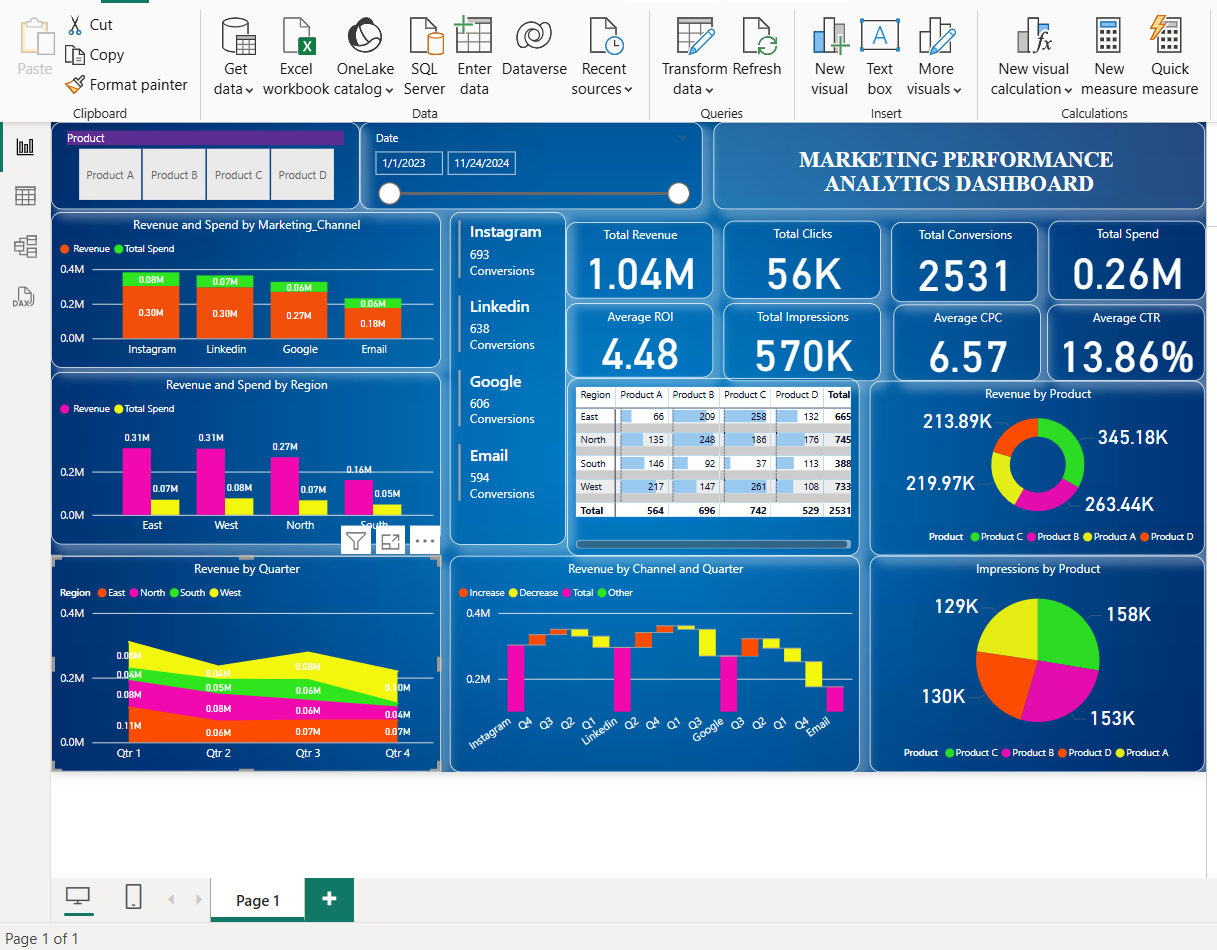

The dashboard page shown, as its layout file describes it:
{"tool":"powerbi","page":{"name":"Page 1","canvas":[1280,720],"ordinal":0},"visuals":[{"type":"card","title":"Total Clicks","fields":{"Values":["Sum(Sheet1.Clicks)"]},"box":[745.1,109.8,174.3,86.4],"z":0},{"type":"card","title":"Total Conversions","fields":{"Values":["Sum(Sheet1.Conversions)"]},"box":[931.7,111.1,163.3,89.2],"z":1000},{"type":"card","title":"Total Impressions","fields":{"Values":["Sum(Sheet1.Impressions)"]},"box":[745.1,200.3,174.3,86.4],"z":2000},{"type":"card","title":"Total Revenue","fields":{"Values":["Sum(Sheet1.Revenue)"]},"box":[570.8,111.1,163.3,85.1],"z":3000},{"type":"card","title":"Total Spend","fields":{"Values":["Sum(Sheet1.Spend)"]},"box":[1106,109.8,174.3,87.8],"z":4000},{"type":"card","title":"Average CPC","fields":{"Values":["Avg(Sheet1.CPC)"]},"box":[934.5,201.7,163.3,85.1],"z":5000},{"type":"card","title":"Average ROI","fields":{"Values":["Avg(Sheet1.ROI)"]},"box":[570.8,200.3,163.3,82.3],"z":6000},{"type":"card","title":"Average CTR","fields":{"Values":["Avg(Sheet1.CTR)"]},"box":[1104.6,201.7,174.3,85.1],"z":7000},{"type":"textbox","box":[734.4,0,544.5,97],"z":8000},{"type":"waterfallChart","title":" Revenue by Channel and Quarter","fields":{"Category":["Sheet1.Marketing_Channel"],"Y":["Sum(Sheet1.Revenue)"],"Breakdown":["Sheet1.Quarter"]},"box":[442,480.8,454.5,239.7],"z":9000},{"type":"donutChart","title":" Revenue by Product","fields":{"Category":["Sheet1.Product"],"Y":["Sum(Sheet1.Revenue)"]},"box":[907.6,286.8,371.3,194],"z":10000},{"type":"columnChart","title":" Revenue and Spend by Marketing_Channel","fields":{"Category":["Sheet1.Marketing_Channel"],"Y":["Sum(Sheet1.Revenue)","Sum(Sheet1.Spend)"]},"box":[0,100.2,432.2,172.9],"z":11000},{"type":"clusteredColumnChart","title":" Revenue and Spend by Region","fields":{"Y":["Sum(Sheet1.Revenue)","Sum(Sheet1.Spend)"],"Category":["Sheet1.Region"]},"box":[0,277.1,432.3,191.2],"z":12000},{"type":"stackedAreaChart","title":" Revenue by Quarter","fields":{"Category":["Sheet1.Date.Variation.Date Hierarchy.Quarter"],"Y":["Sum(Sheet1.Revenue)"],"Series":["Sheet1.Region"]},"box":[0,480.8,432.3,239.7],"z":13000},{"type":"multiRowCard","fields":{"Values":["Sum(Sheet1.Conversions)","Sheet1.Marketing_Channel"]},"box":[442,99.8,128.9,368.6],"z":14000},{"type":"pivotTable","fields":{"Rows":["Sheet1.Region"],"Columns":["Sheet1.Product"],"Values":["Sum(Sheet1.Conversions)"]},"box":[572.2,284,324.2,196.8],"z":15000},{"type":"slicer","fields":{"Values":["Sheet1.Product"]},"box":[0,0,342.2,97],"z":16000},{"type":"slicer","fields":{"Values":["Sheet1.Date"]},"box":[342.2,0,379.7,97],"z":17000},{"type":"pieChart","fields":{"Category":["Sheet1.Product"],"Y":["Sum(Sheet1.Impressions)"]},"box":[907.6,480.8,371.3,239.7],"z":17001}]}

Visuals, with their boxes in screenshot pixels (x1, y1, x2, y2):
"Total Clicks" card: region(721, 217, 879, 295)
"Total Conversions" card: region(890, 218, 1038, 298)
"Total Impressions" card: region(721, 298, 879, 377)
"Total Revenue" card: region(564, 218, 711, 295)
"Total Spend" card: region(1048, 217, 1205, 296)
"Average CPC" card: region(893, 300, 1040, 377)
"Average ROI" card: region(564, 298, 711, 373)
"Average CTR" card: region(1047, 300, 1204, 377)
textbox: region(712, 117, 1204, 205)
" Revenue by Channel and Quarter" waterfallChart: region(447, 552, 858, 769)
" Revenue by Product" donutChart: region(868, 377, 1204, 552)
" Revenue and Spend by Marketing_Channel" columnChart: region(48, 208, 438, 364)
" Revenue and Spend by Region" clusteredColumnChart: region(48, 368, 439, 541)
" Revenue by Quarter" stackedAreaChart: region(48, 552, 439, 769)
multiRowCard - Sum(Sheet1.Conversions) x Sheet1.Marketing_Channel: region(447, 208, 564, 541)
pivotTable - Sheet1.Region x Sheet1.Product: region(565, 374, 858, 552)
slicer - Sheet1.Product: region(48, 117, 357, 205)
slicer - Sheet1.Date: region(357, 117, 700, 205)
pieChart - Sheet1.Product x Sum(Sheet1.Impressions): region(868, 552, 1204, 769)
